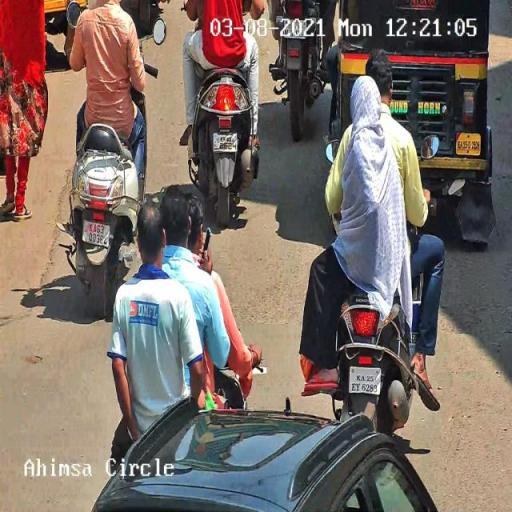tripple riding: (100, 180, 262, 425)
